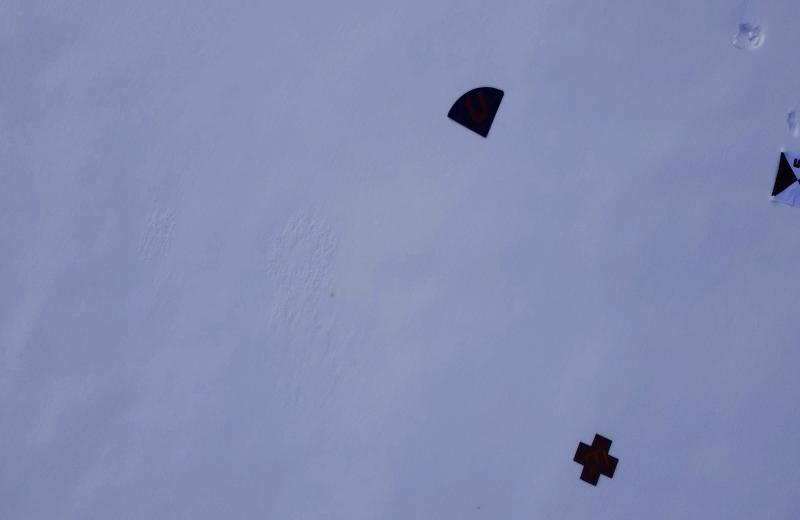Cross: (574, 432, 620, 486)
Quarter Circle: (449, 84, 505, 141)
